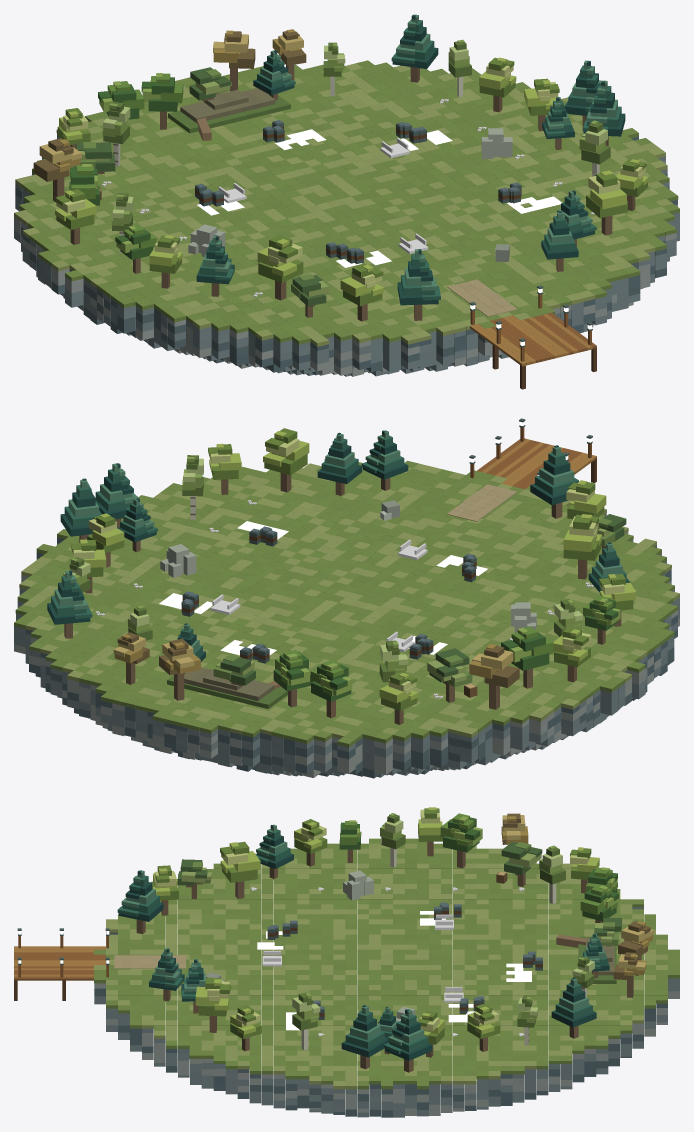
File: landing_purified.glb
3 renders of one model, top to bottom at view 1: azimuth 30°, elevation 25°; view 2: azimuth 150°, elevation 25°; view 3: azimuth 270°, elevation 25°, orthographic. The views are drawn at different scales.
Parts seen in each view (by area): view 1: landing_blocks, tree4_(0, 0).006, tree2_(0, 0).009, tree2_(0, 0).005, tree4_(0, 0).005, tree5_(0, 0).002, tree4_(0, 0).001, tree0_(0, 0).004, tree5_(0, 0).001, tree4_(0, 0).007, tree2_(0, 0).003, tree2_(0, 0).004 (+24 smaller); view 2: landing_blocks, tree2_(0, 0).009, tree4_(0, 0).005, tree5_(0, 0).002, tree0_(0, 0).002, tree2_(0, 0).005, tree4_(0, 0).006, tree0_(0, 0).001, tree2_(0, 0).003, tree2_(0, 0).007, tree2_(0, 0).006, tree2_(0, 0).002 (+22 smaller); view 3: landing_blocks, tree2_(0, 0).006, tree2_(0, 0).009, tree2_(0, 0).003, tree4_(0, 0).006, tree2_(0, 0).005, tree0_(0, 0).002, tree4_(0, 0).005, tree2_(0, 0).004, tree3_(0, 0).001, tree0_(0, 0).004, tree2_(0, 0).002 (+22 smaller).
Boxes of the visible parts, x1,y1,x2,y2 form: landing_blocks: [14, 60, 679, 389]; tree4_(0, 0).006: [257, 235, 303, 300]; tree2_(0, 0).009: [397, 249, 440, 320]; tree2_(0, 0).005: [391, 14, 438, 82]; tree4_(0, 0).005: [586, 170, 627, 235]; tree5_(0, 0).002: [33, 138, 81, 202]; tree4_(0, 0).001: [340, 263, 383, 321]; tree0_(0, 0).004: [141, 73, 183, 129]; tree5_(0, 0).001: [213, 30, 255, 91]; tree4_(0, 0).007: [55, 189, 96, 244]; tree2_(0, 0).003: [583, 80, 625, 146]; tree2_(0, 0).004: [196, 235, 234, 296]; landing_blocks: [14, 418, 679, 778]; tree2_(0, 0).009: [530, 445, 578, 518]; tree4_(0, 0).005: [263, 428, 309, 492]; tree5_(0, 0).002: [469, 643, 519, 709]; tree0_(0, 0).002: [501, 626, 553, 688]; tree2_(0, 0).005: [47, 570, 92, 638]; tree4_(0, 0).006: [563, 514, 602, 579]; tree0_(0, 0).001: [310, 659, 352, 718]; tree2_(0, 0).003: [95, 463, 138, 527]; tree2_(0, 0).007: [317, 432, 362, 495]; tree2_(0, 0).006: [60, 478, 101, 542]; tree2_(0, 0).002: [361, 430, 408, 490]; landing_blocks: [14, 838, 679, 1117]; tree2_(0, 0).006: [383, 1009, 432, 1072]; tree2_(0, 0).009: [117, 870, 163, 934]; tree2_(0, 0).003: [341, 1005, 388, 1069]; tree4_(0, 0).006: [220, 841, 260, 898]; tree2_(0, 0).005: [551, 977, 596, 1038]; tree0_(0, 0).002: [440, 813, 482, 868]; tree4_(0, 0).005: [195, 977, 230, 1032]; tree2_(0, 0).004: [256, 824, 293, 879]; tree3_(0, 0).001: [501, 841, 542, 886]; tree0_(0, 0).004: [580, 885, 618, 922]; tree2_(0, 0).002: [149, 948, 184, 1001].
Size of the model in its own units: 61.24 by 17.29 by 69.62.
